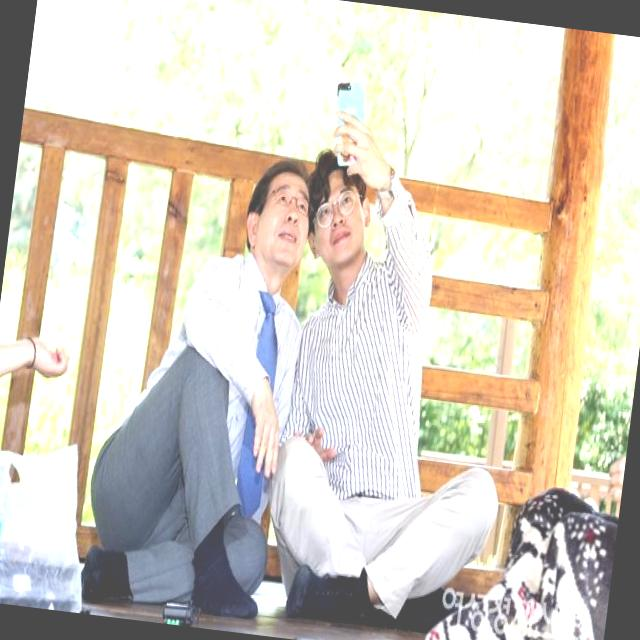phone: (328, 78, 375, 170)
